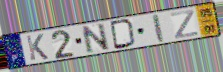2: (50, 28, 77, 61)
D: (109, 19, 138, 51)
I: (151, 13, 166, 44)
K: (25, 33, 51, 62)
N: (80, 22, 112, 55)
Z: (170, 9, 200, 40)
